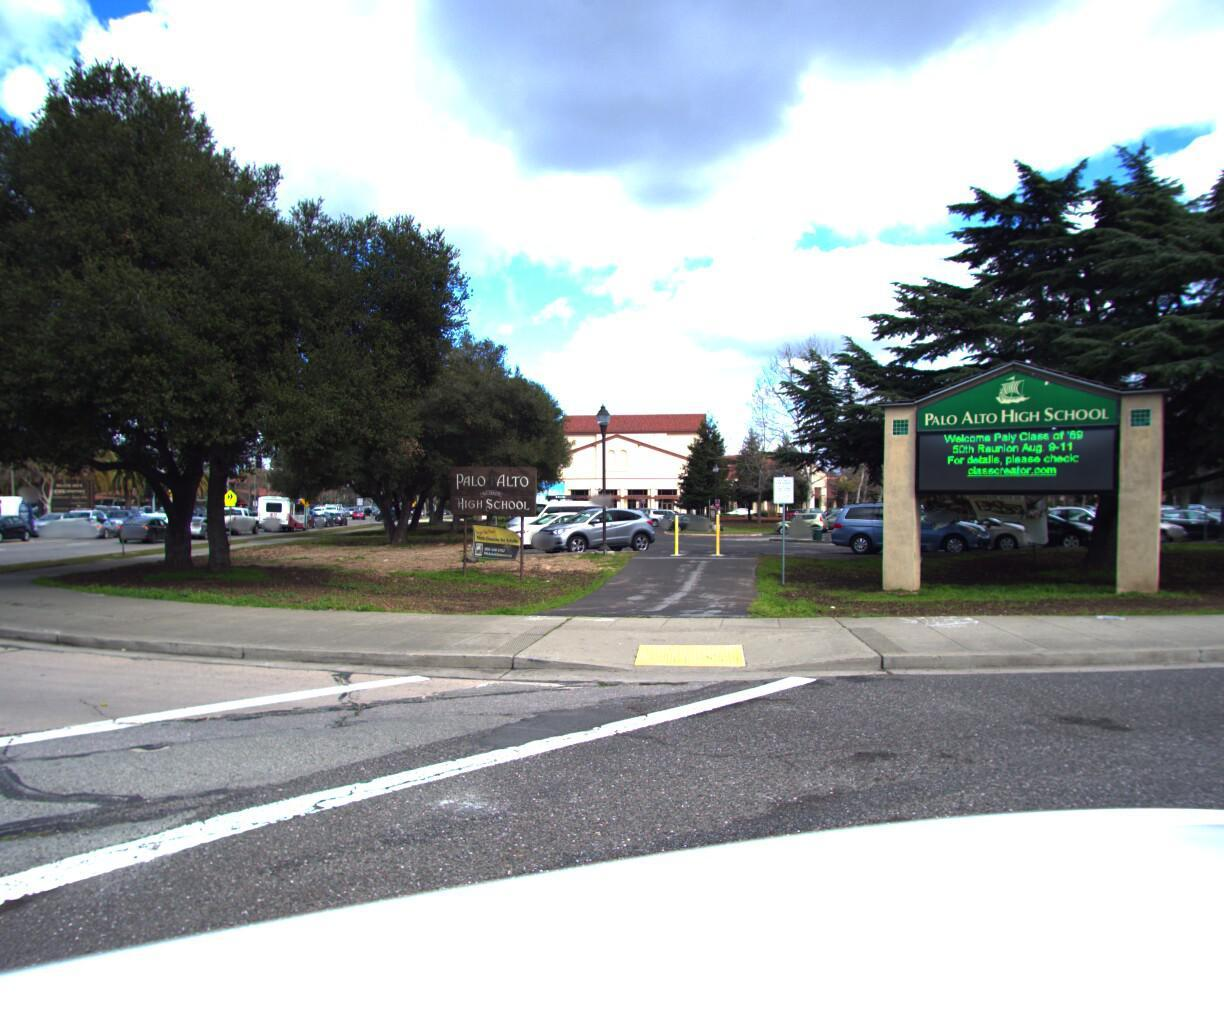bus: (258, 497, 310, 535)
car: (51, 509, 116, 541), (117, 520, 181, 549), (206, 511, 264, 540), (27, 515, 88, 539), (0, 496, 40, 533), (174, 520, 228, 546), (71, 520, 127, 543), (0, 520, 38, 551), (314, 516, 339, 531)
